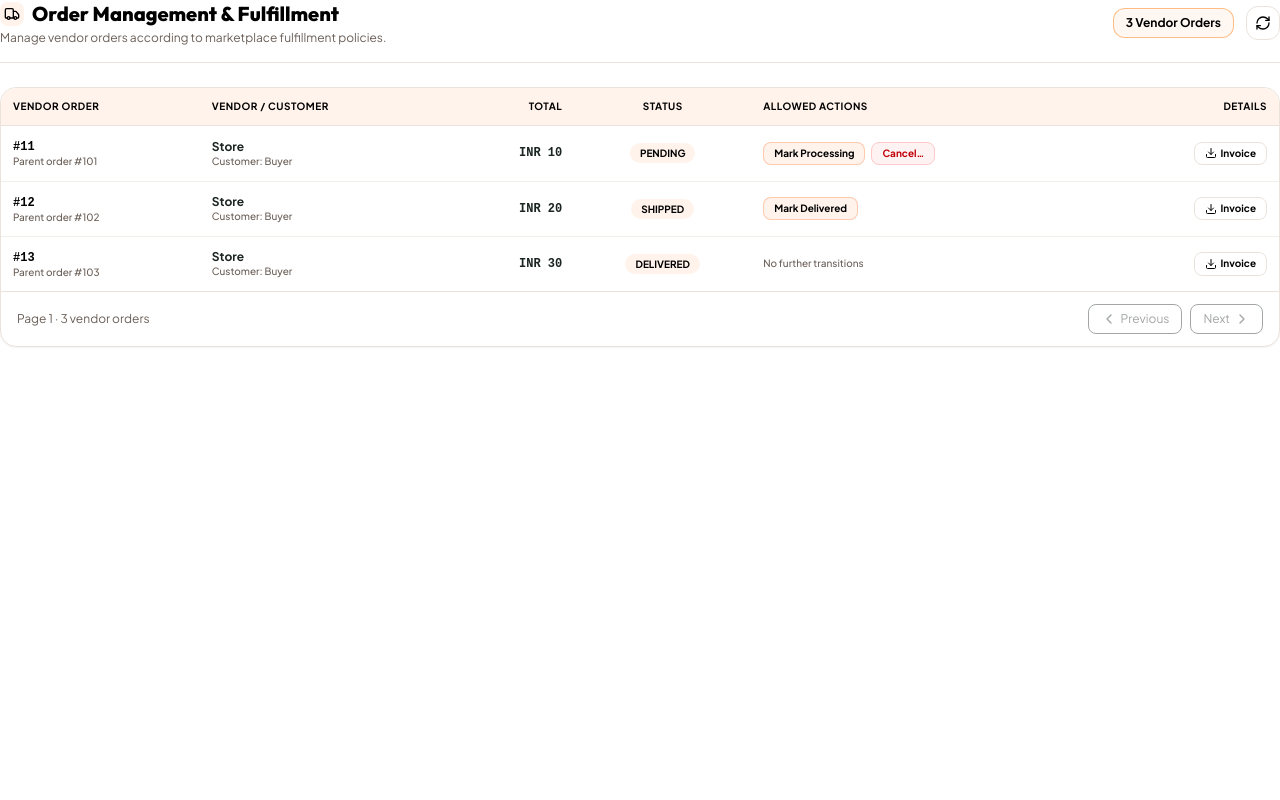
Test case: OrderOpsModule real transition actions › shows the paid-order RMA response and whole-parent warning on cancel
Expected: the text "pending" is shown, [630,144,695,164]
Click the button "Cancel…" at (903, 153), box [871,142,935,165]
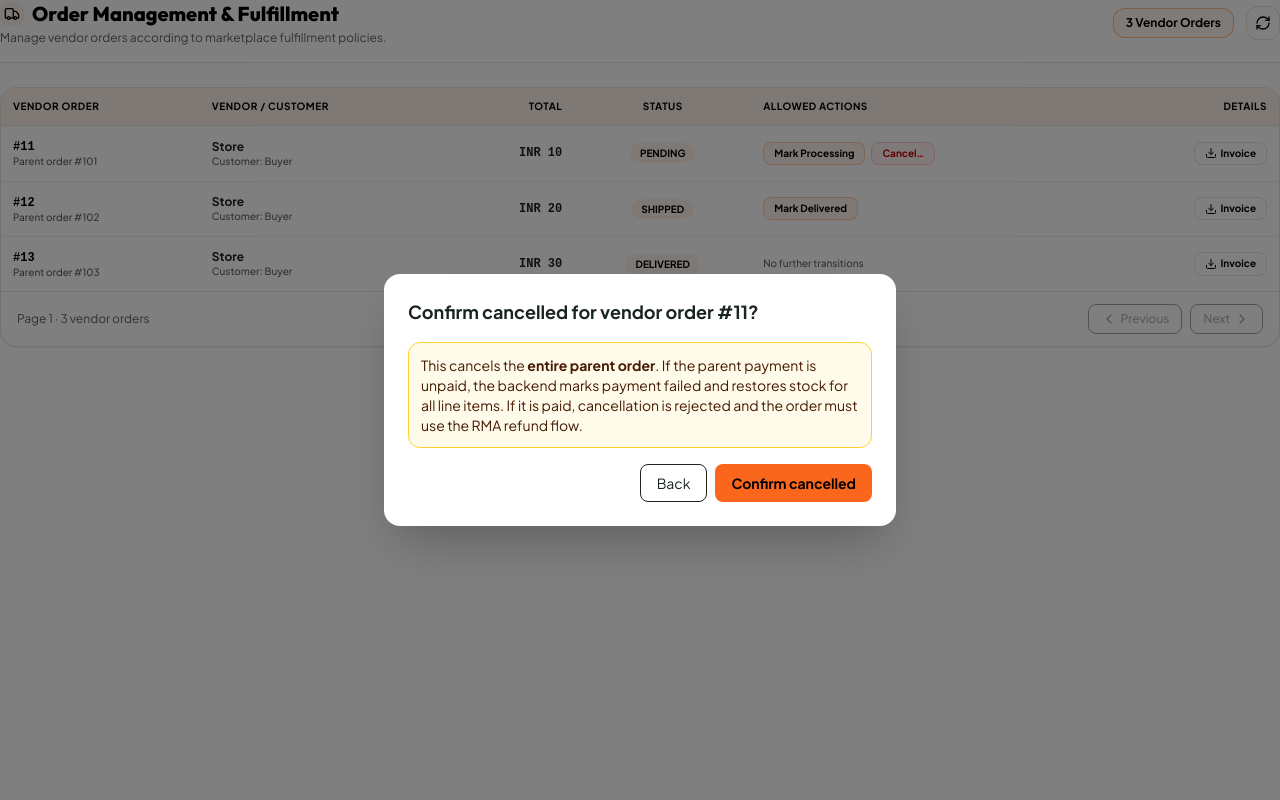
Click the button "Confirm cancelled" at (794, 483), box [716,464,872,502]
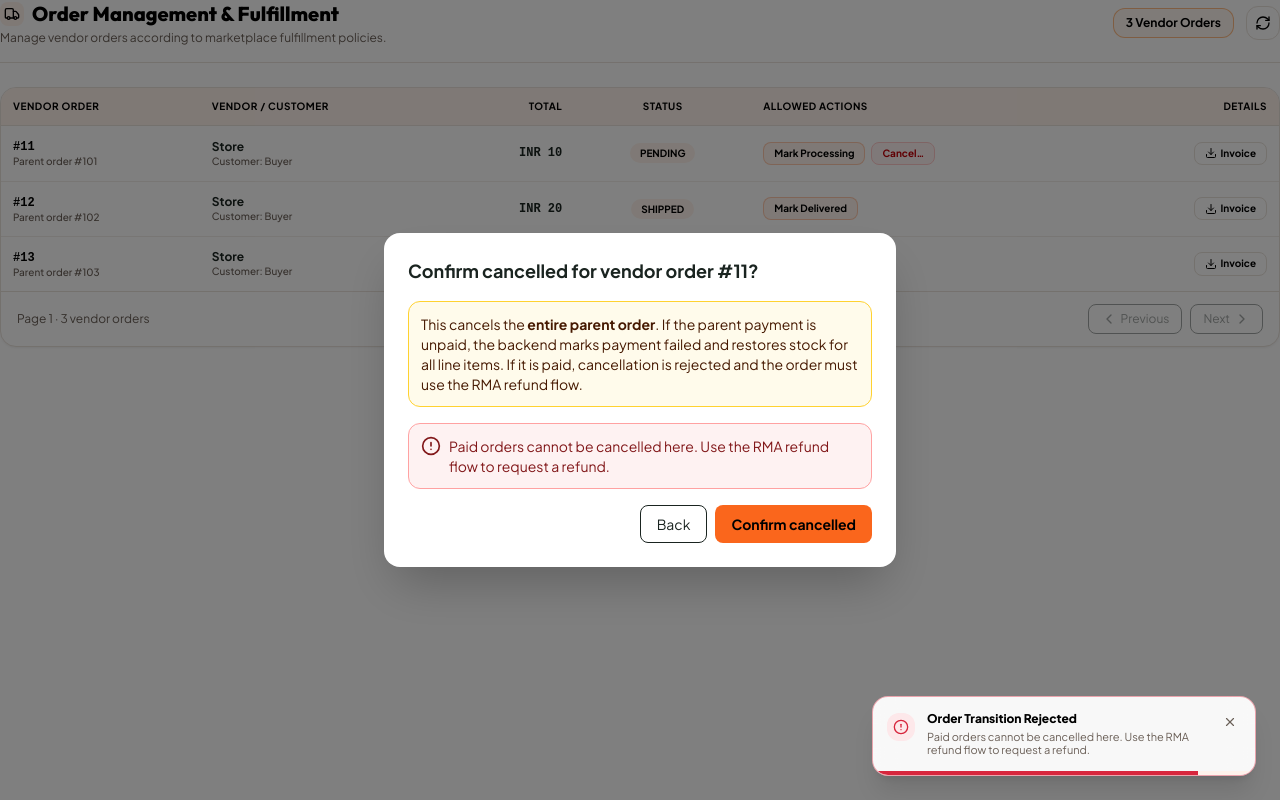
Expected: the text "pending" is shown, [630,144,695,164]
Expected: the message shows "Use the RMA refund flow", [449,437,829,475]
